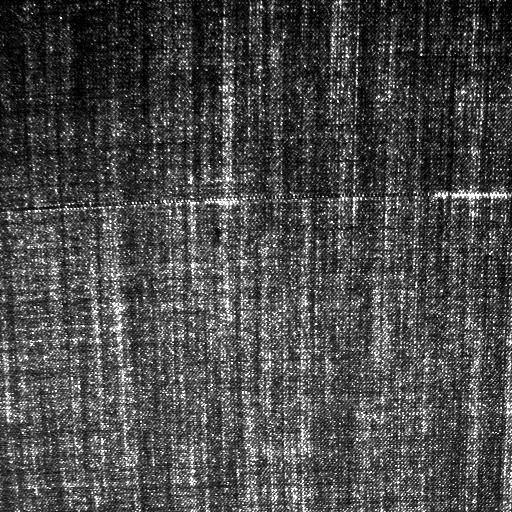fabric_broken_pick: (111, 171, 512, 212)
